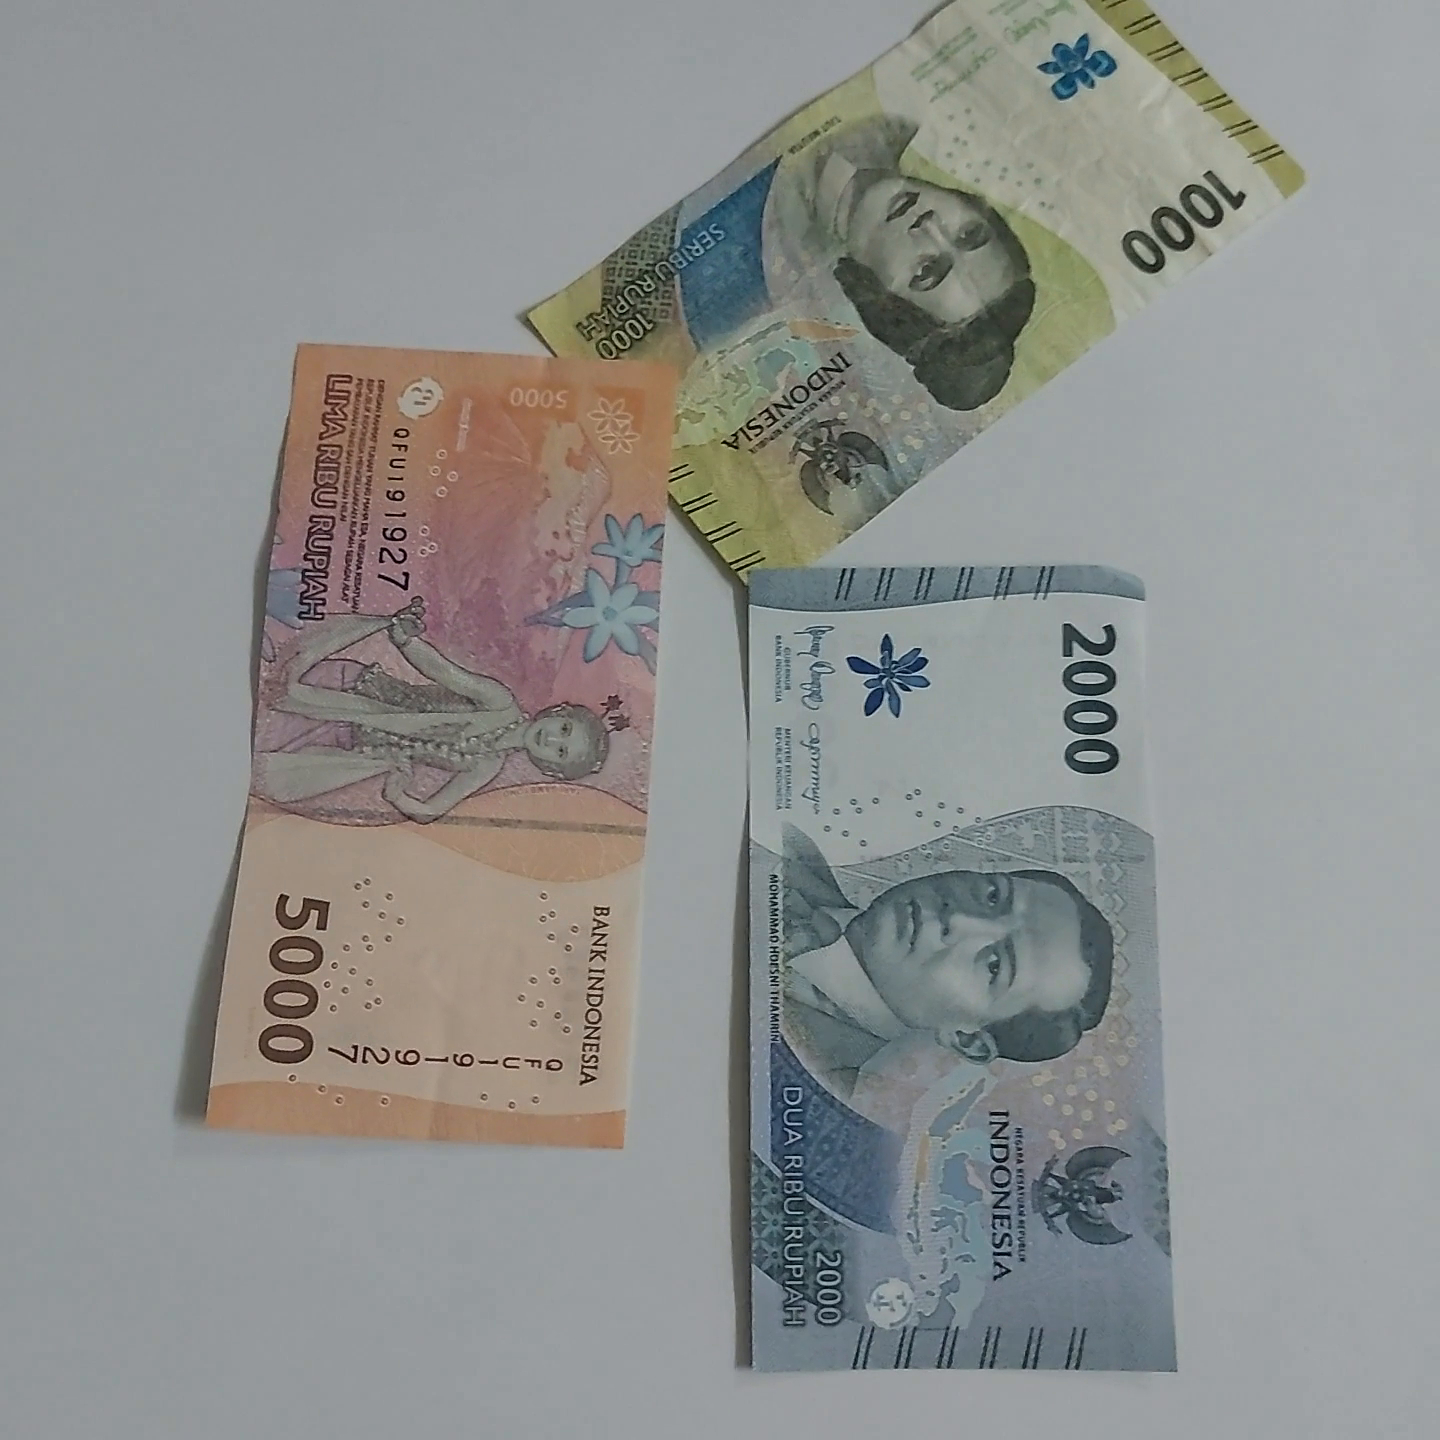1k: (525, 0, 1317, 601)
2k: (719, 526, 1199, 1395)
5k: (202, 255, 638, 1225)
